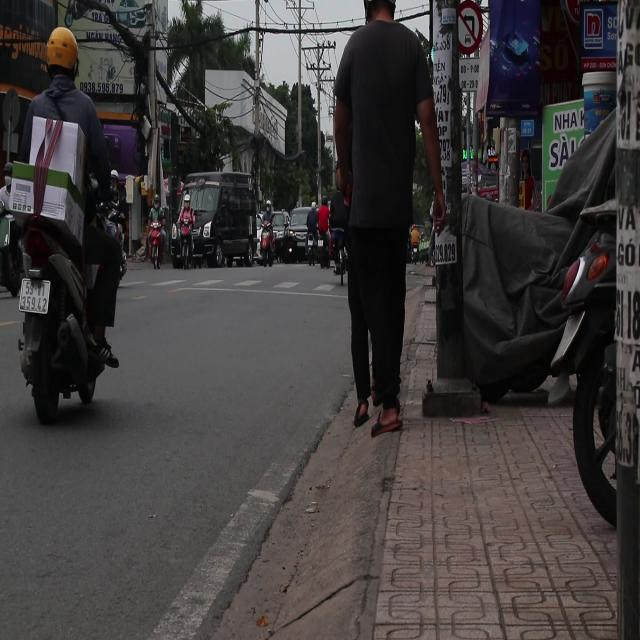car: (184, 174, 258, 267), (269, 210, 298, 264)
motorbike: (14, 203, 100, 419), (146, 218, 168, 274)
